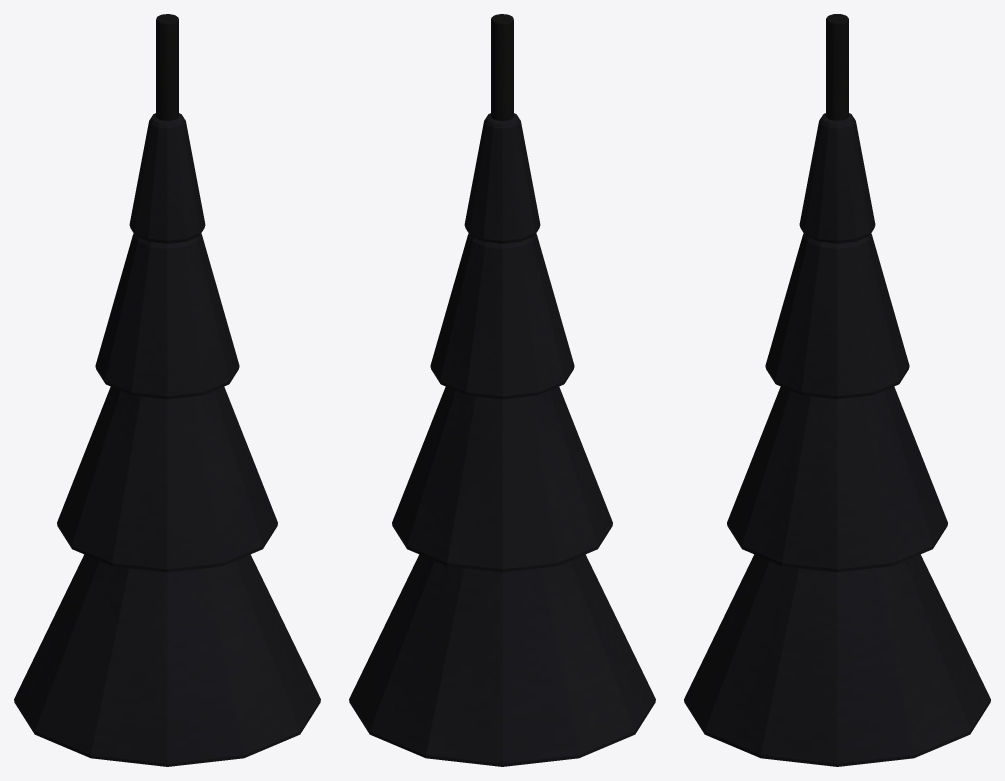
The model's file is prop_town_spire.glb.
The picture shows the model from 3 angles, left to right: view 1: azimuth 30°, elevation 25°; view 2: azimuth 150°, elevation 25°; view 3: azimuth 270°, elevation 25°; orthographic projection.
Parts seen in each view (by area): view 1: slate, iron; view 2: slate, iron; view 3: slate, iron.
Boxes of the visible parts, x1=… form: slate: x1=14, y1=113, x2=320, y2=766; iron: x1=156, y1=14, x2=178, y2=120; slate: x1=349, y1=113, x2=655, y2=766; iron: x1=491, y1=14, x2=513, y2=120; slate: x1=684, y1=113, x2=990, y2=766; iron: x1=826, y1=14, x2=848, y2=120.
Bounding box in the file's own units: 1.42 × 3.5 × 1.42.
Materials: 2 (2 with a texture image).
